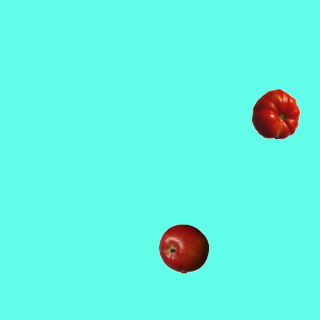Apple Braeburn: (158, 223, 208, 273)
Tomato 3: (250, 88, 300, 138)
